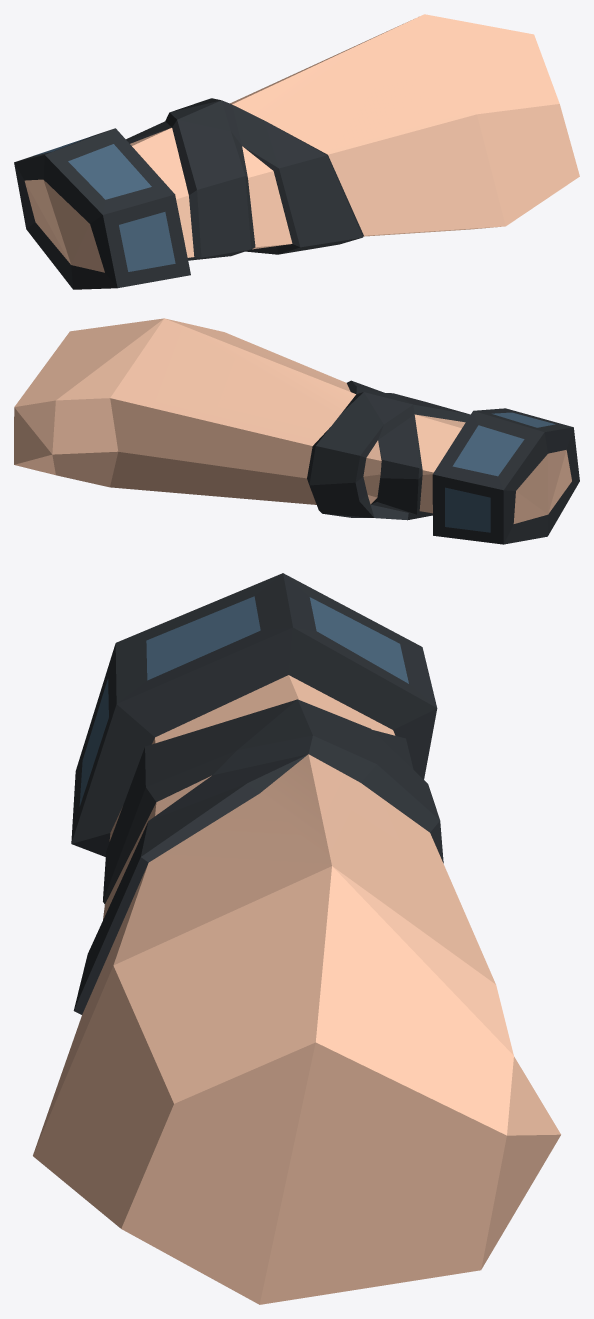
File: Chr_ArmLowerRight_Male_13_Static.fbx
3 renders of one model, top to bottom at view 1: azimuth 30°, elevation 25°; view 2: azimuth 150°, elevation 25°; view 3: azimuth 270°, elevation 25°, orthographic. The views are drawn at different scales.
Visible parts, largest first — view 1: Chr_ArmLowerRight_Male_13_Static; view 2: Chr_ArmLowerRight_Male_13_Static; view 3: Chr_ArmLowerRight_Male_13_Static.
Part boxes in pixels (box(x1,y1,x2,y2)): Chr_ArmLowerRight_Male_13_Static: box(14, 14, 579, 289); Chr_ArmLowerRight_Male_13_Static: box(14, 318, 579, 544); Chr_ArmLowerRight_Male_13_Static: box(33, 573, 560, 1304).
Bounding box in the file's own units: 0.2896 × 0.1092 × 0.1371.
